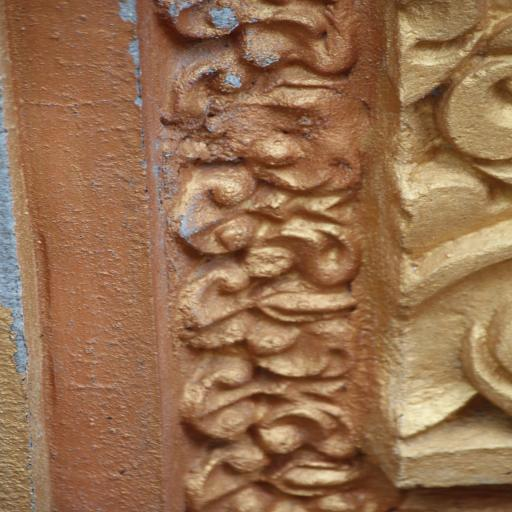la: (155, 5, 381, 188), (168, 186, 368, 375), (168, 371, 366, 512)
